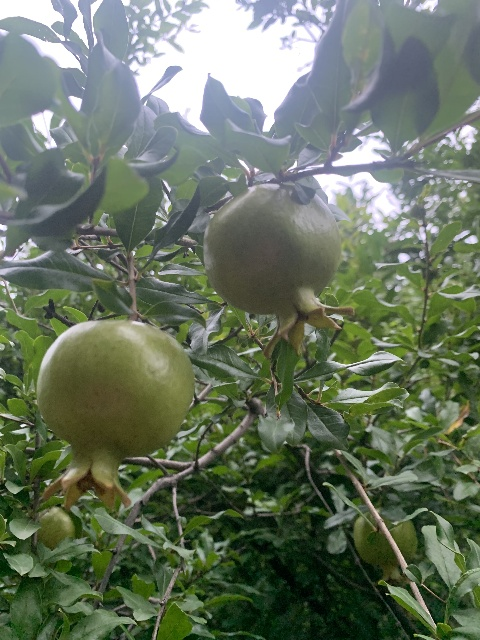mid-growth: (36, 318, 195, 513), (203, 182, 353, 358), (352, 513, 420, 586)
